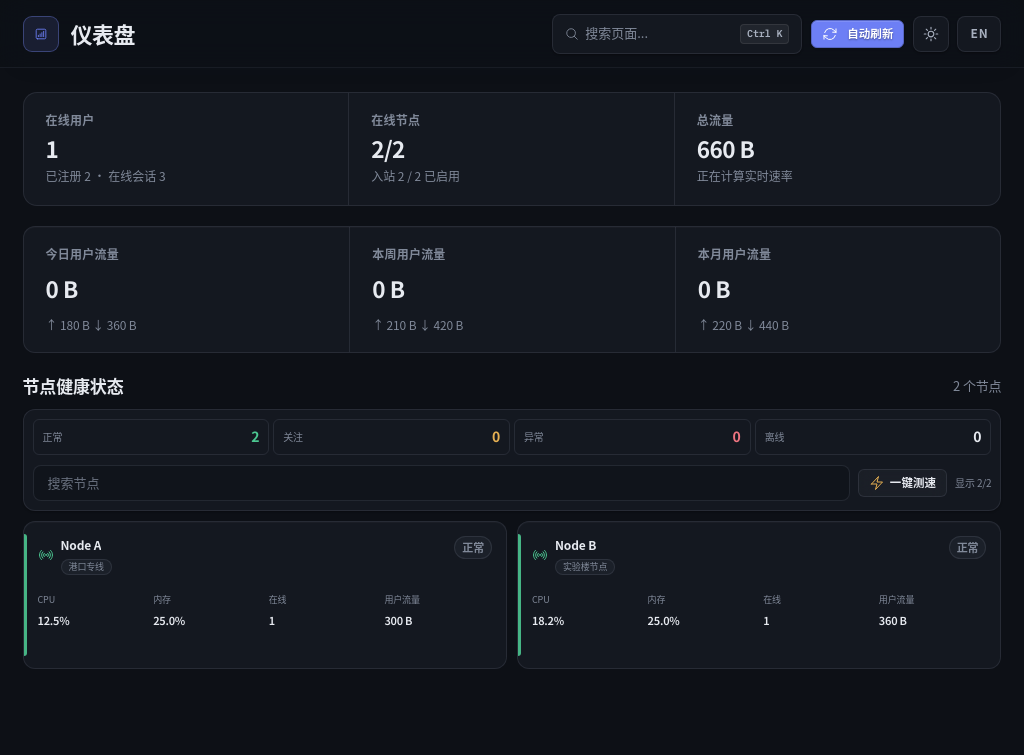
Test: Dashboard › counts online users by matched managed accounts instead of raw online sessions
This screenshot has width=1024, height=755.
Check: the text "已注册 2 · 在线会话 3" is shown, box [46,168,166,184]
Check: the text "港口专线" is shown, box [60,559,112,575]
Click the button "自动刷新" at (858, 34), box [811,20,904,48]
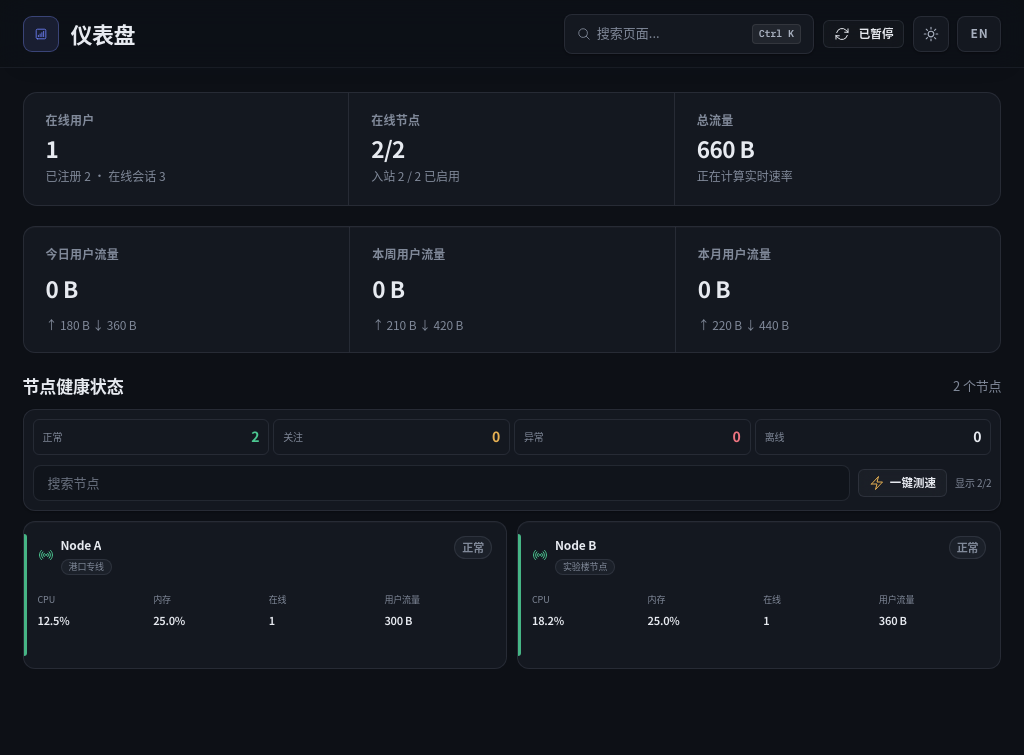
Click the button "已暂停" at (864, 34), box [823,20,904,48]
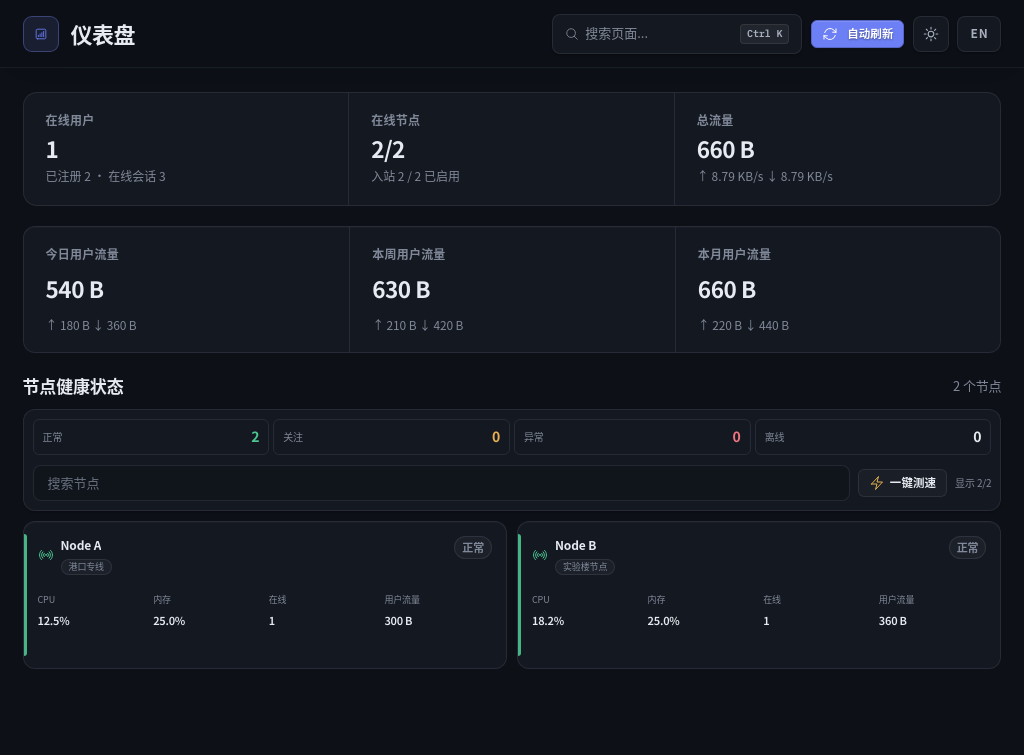
Check: the button "总流量 660 B ↑ 8.79 KB/s ↓ 8.79 KB/s" is shown, box [675,93,1000,205]
Check: the button "本周用户流量 630 B ↑ 210 B ↓ 420 B" is shown, box [349,227,675,352]
Check: the button "本月用户流量 660 B ↑ 220 B ↓ 440 B" is shown, box [675,227,1000,352]
Click the button "在线用户 1 已注册 2 · 在线会话 3" at (70, 120), box [24,93,349,205]
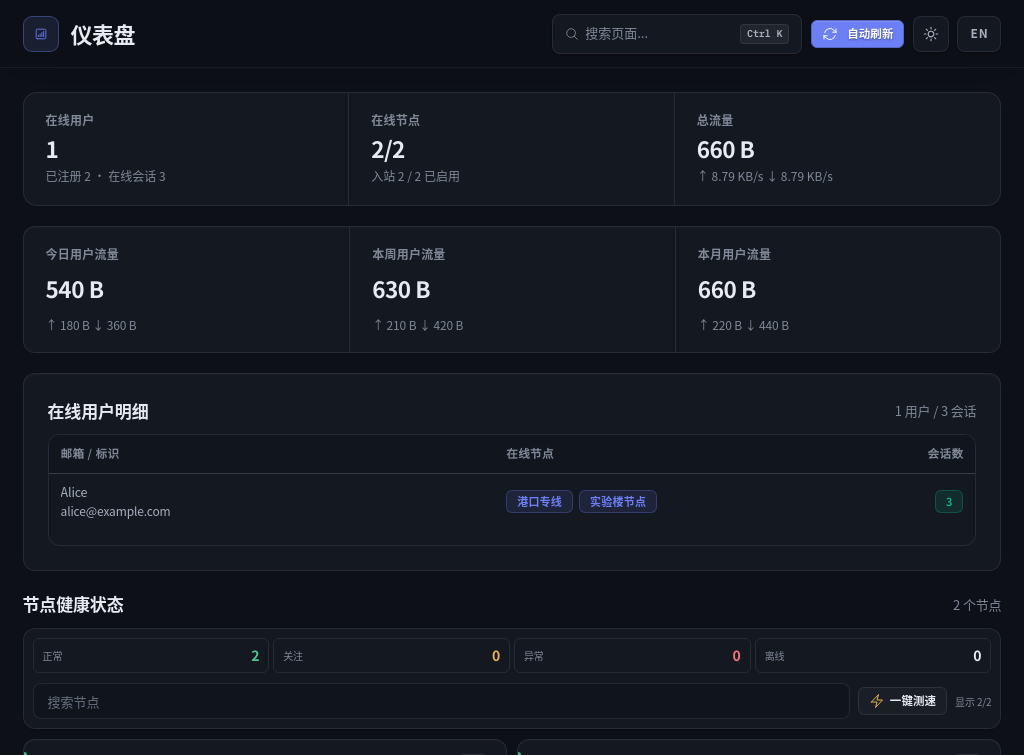
Check: the text "在线用户明细" is shown, box [48,398,148,422]
Check: the text "Alice" is shown, box [60,482,87,501]
Check: the text "alice@example.com" is shown, box [60,502,171,518]
